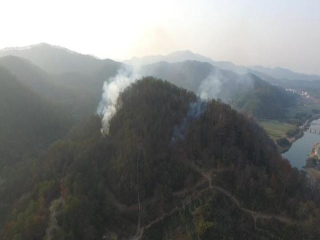smoke: (169, 70, 218, 150), (93, 64, 143, 138)
